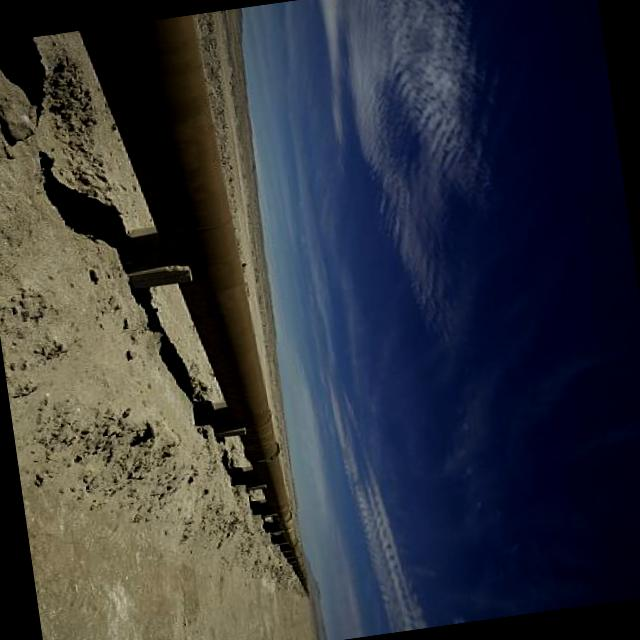gas: (79, 15, 304, 585)
